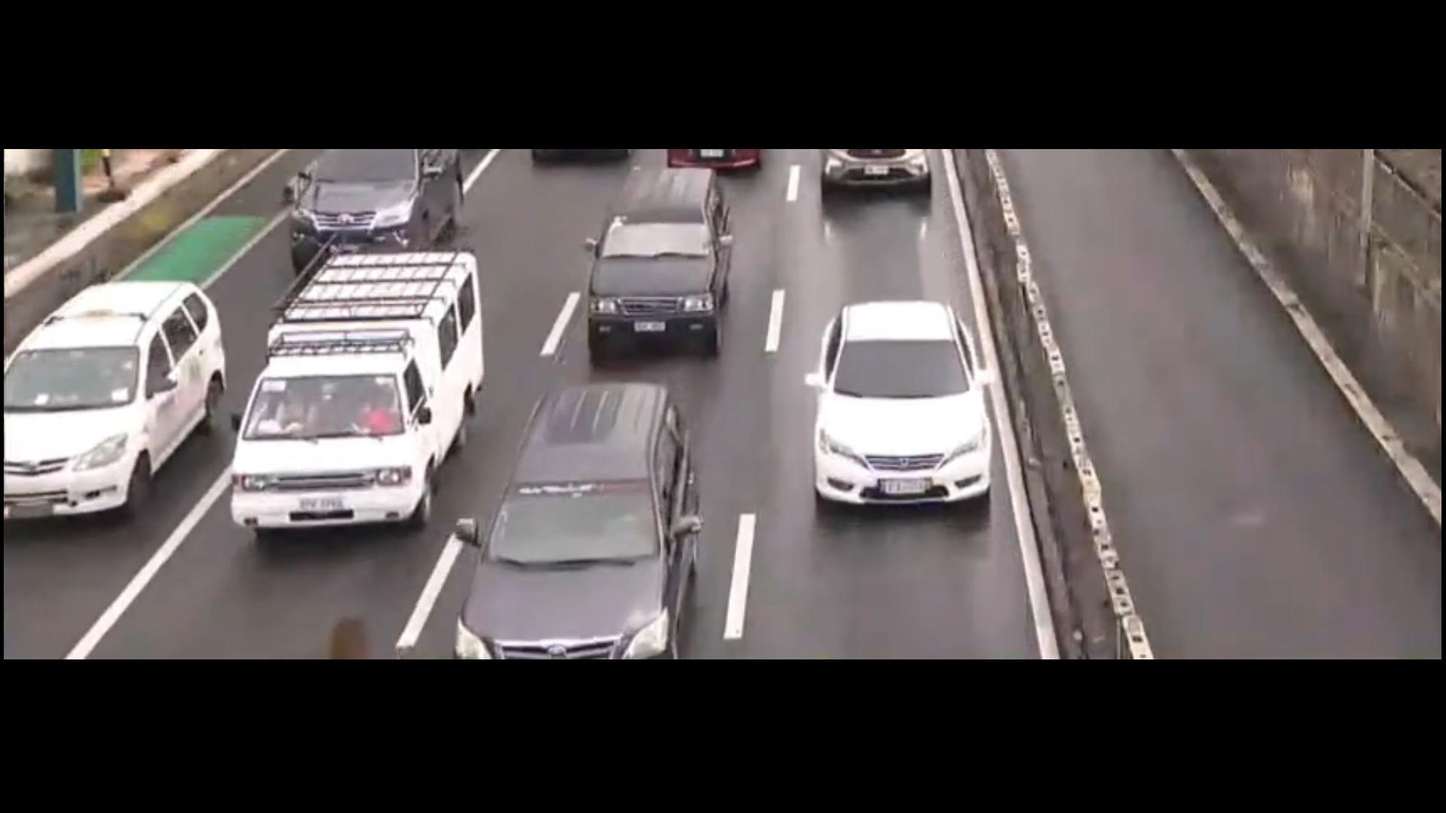Multicab: (222, 232, 494, 559)
SUV: (435, 384, 706, 664), (0, 249, 236, 541), (578, 155, 738, 368), (271, 149, 501, 267)
Sedan: (778, 277, 1006, 535)
